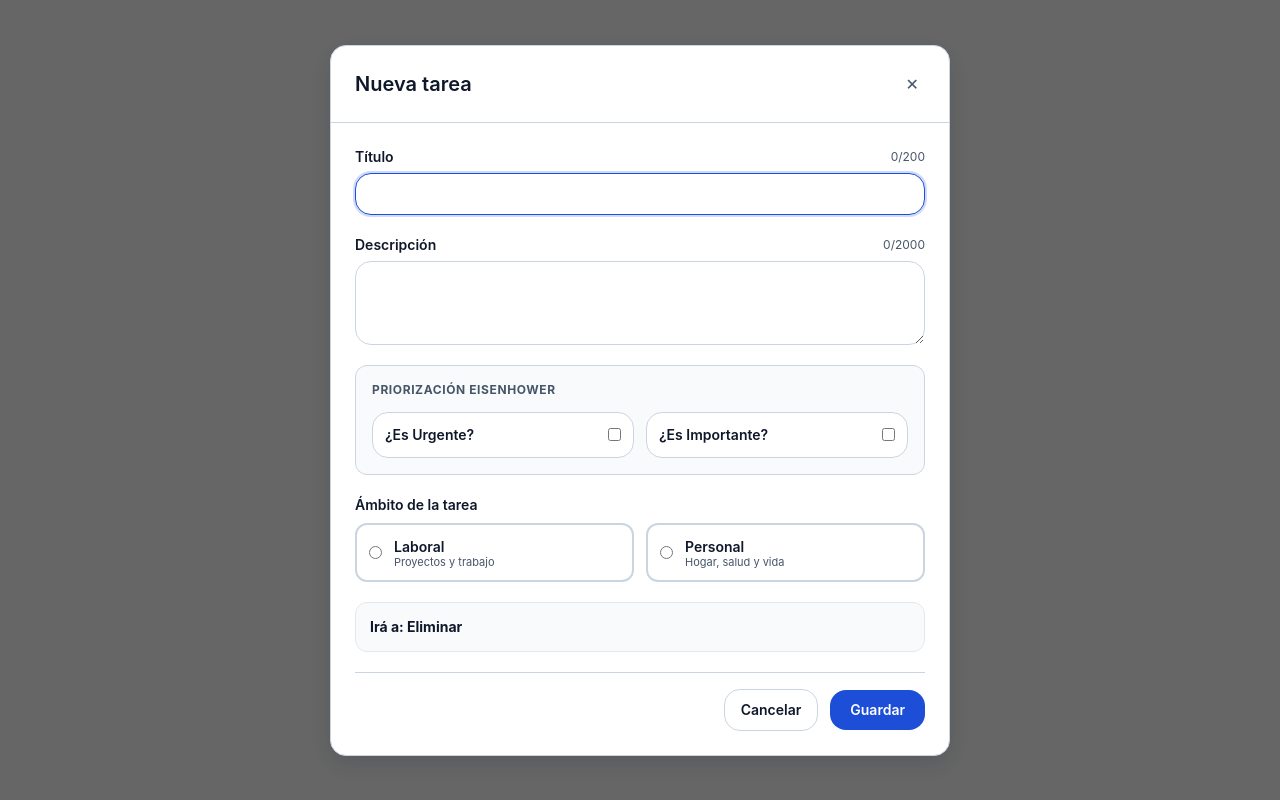
Scenario: <TaskForm> (modo crear) › muestra los contadores de título y descripción y se actualizan al escribir
The image size is (1280, 800).
Expected: the text "0/200" is shown, [891, 148, 925, 164]
Expected: the text "0/2000" is shown, [883, 236, 925, 252]
Type "Comprar leche" into the field labelled "Título" at (640, 194), box [355, 172, 925, 214]
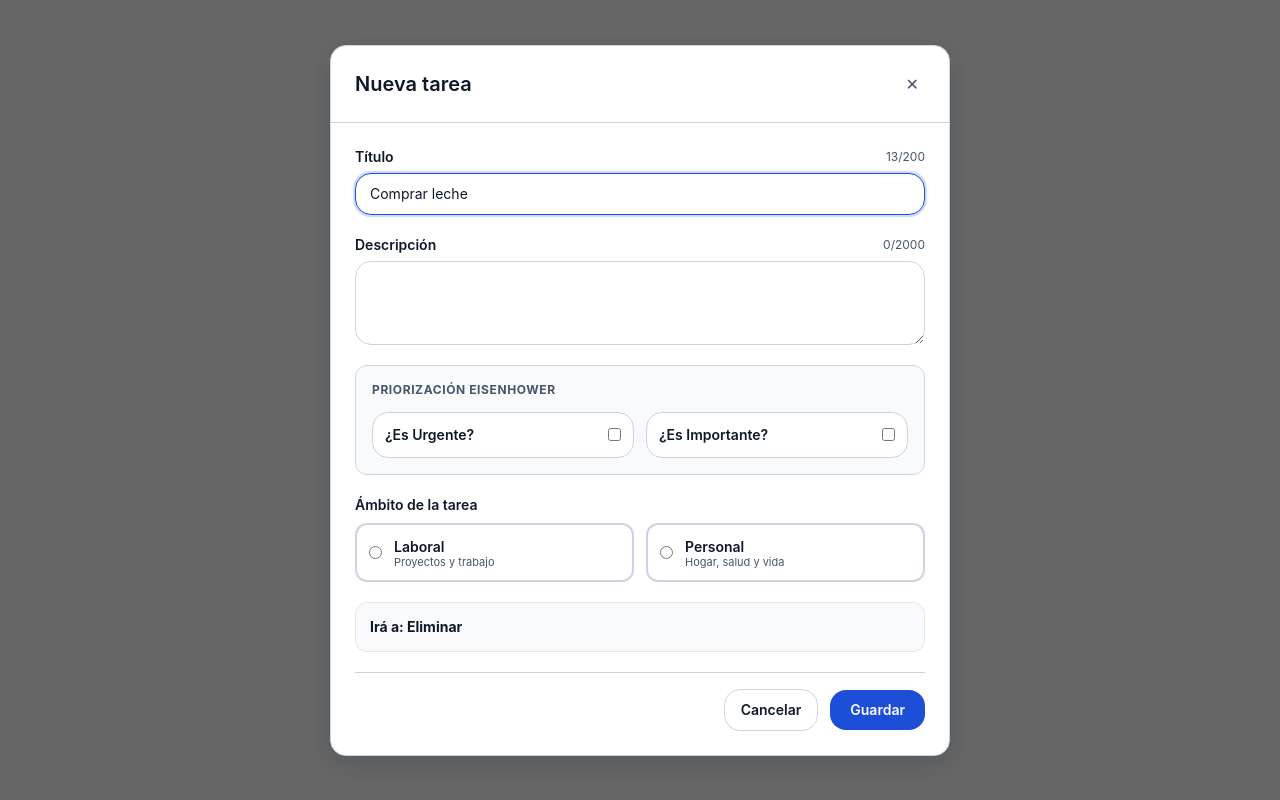
Now the text "13/200" is shown, box [886, 148, 925, 164]
